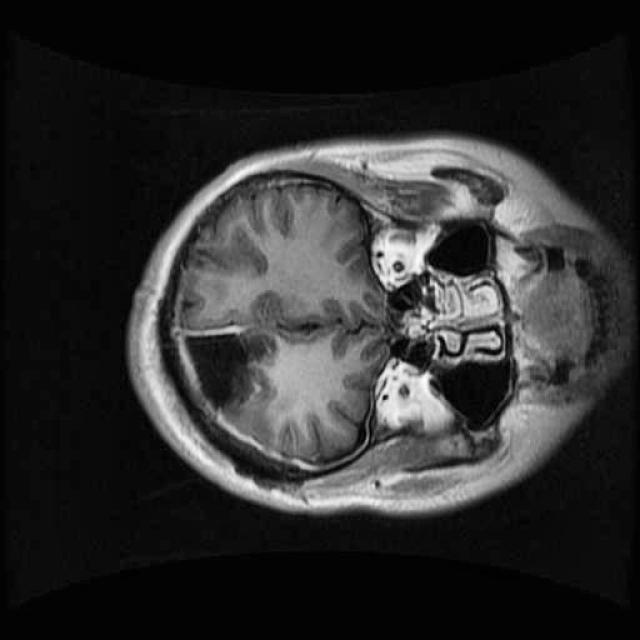Non-Tumor: (156, 304, 292, 442)
